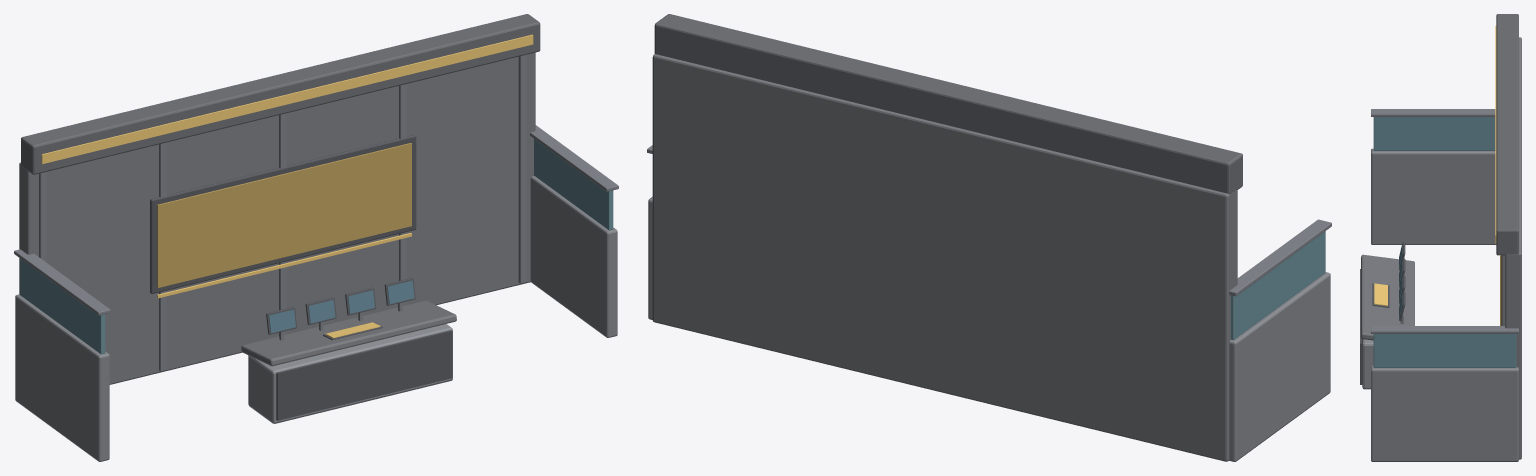
Rendered from fob_booth_wide.fbx.
The picture shows the model from 3 angles, left to right: view 1: azimuth 30°, elevation 25°; view 2: azimuth 150°, elevation 25°; view 3: azimuth 270°, elevation 25°; orthographic projection. The views are drawn at different scales.
Parts seen in each view (by area): view 1: fob_booth_wide; view 2: fob_booth_wide; view 3: fob_booth_wide.
Part boxes in pixels (left/top/right/bottom): fob_booth_wide: left=14, top=14, right=618, bottom=461; fob_booth_wide: left=647, top=14, right=1331, bottom=461; fob_booth_wide: left=1360, top=14, right=1521, bottom=461.
Bounding box in the file's own units: 9.22 × 4.45 × 2.84.
